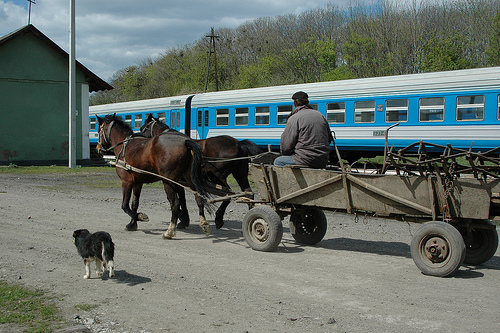horse: (137, 114, 270, 234), (95, 113, 212, 237)
